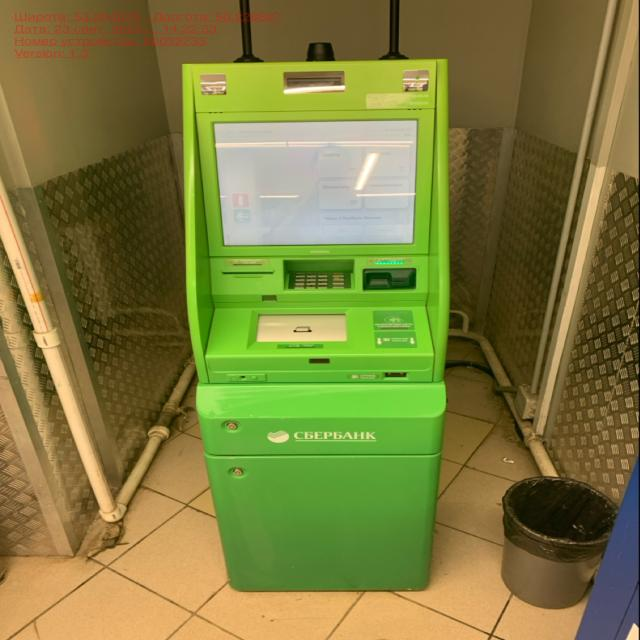bank: (178, 57, 461, 592)
